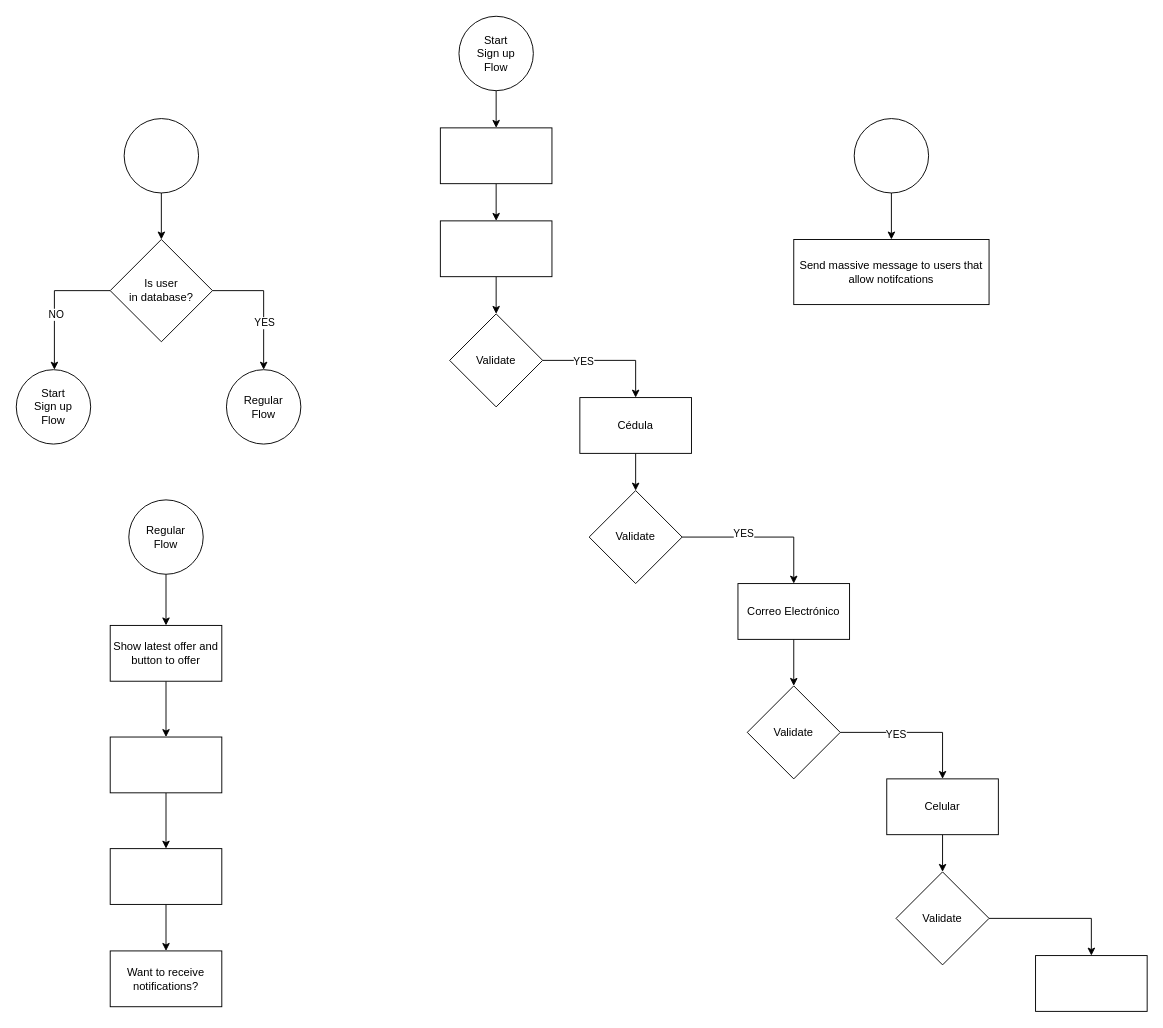
Image size: 1163x1028. Some labels were removed from this diagram. The centre of each missing label's shape, as x and y in pixels:
"Confirm offer" belongs at point 165,876.
"Dirección" belongs at point 1091,983.
"Name" belongs at point 495,248.
"New Offer" belongs at point 891,155.
"Start Conversation" belongs at point 161,155.
"Términos y Condiciones Tratamiento de Datos" belongs at point 495,155.
"Validate offer or cancel" belongs at point 165,764.
